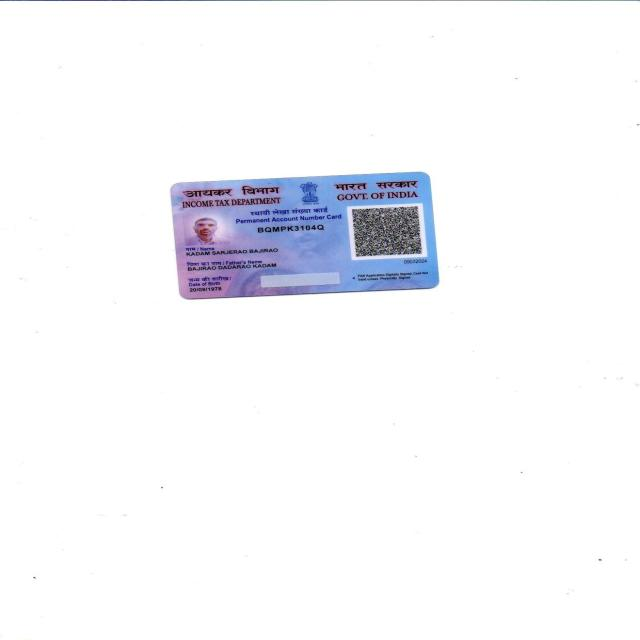pan_card: (169, 171, 441, 298)
